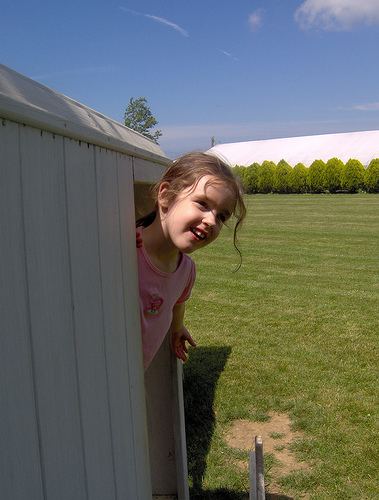without_mask: (154, 152, 251, 265)
